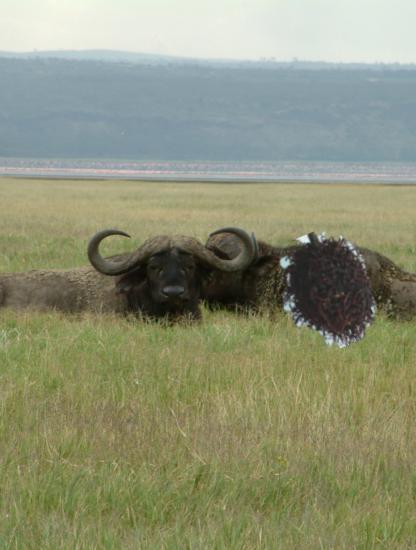Rambutan: (267, 231, 386, 350)
